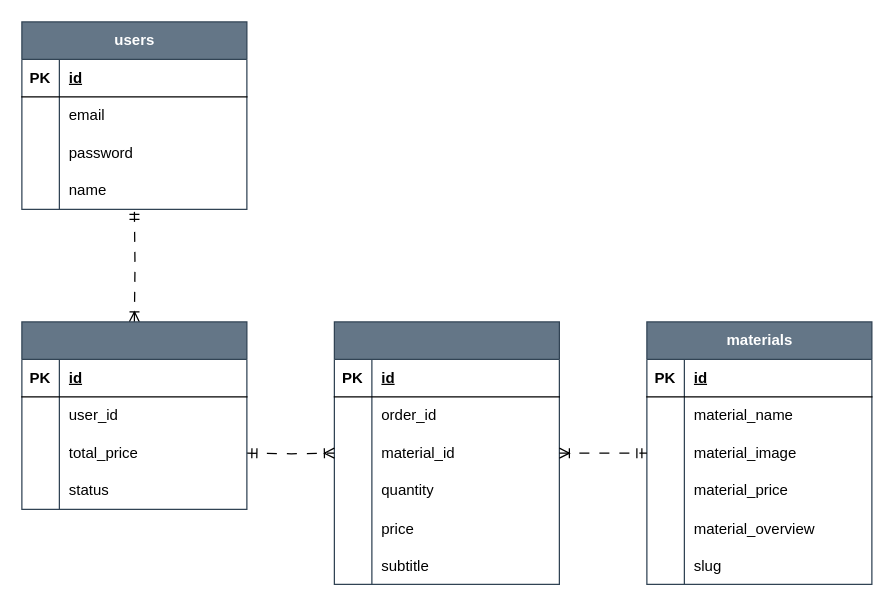
Image size: 894x606. Some labels were removed from this diagram. Each missing label, with the box of its shape:
checkouts: (333, 321, 559, 584)
orders: (21, 321, 247, 509)
